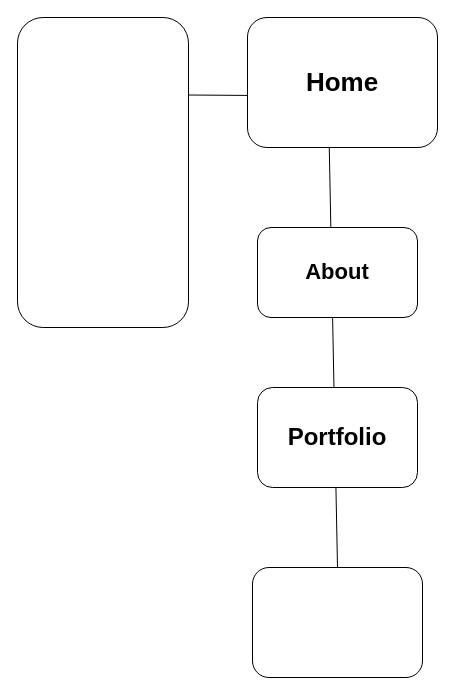
This 455x695 diagram has some shape labels left out. The box of each missing label's shape, as (x1, y1, x2, y2) in pixels:
Contact: (252, 566, 422, 678)
Navigation Bar: (16, 16, 188, 328)
